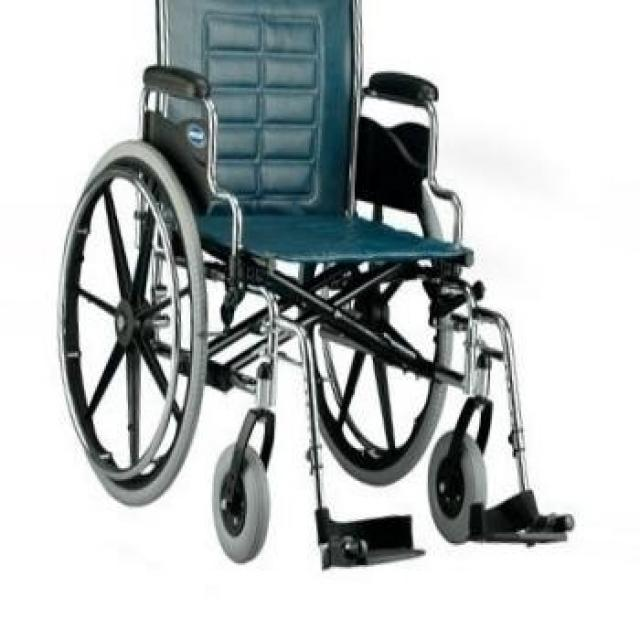wheelchair: (28, 0, 609, 586)
